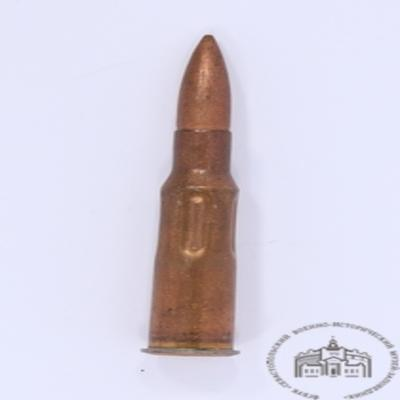weapon: (141, 35, 240, 358)
